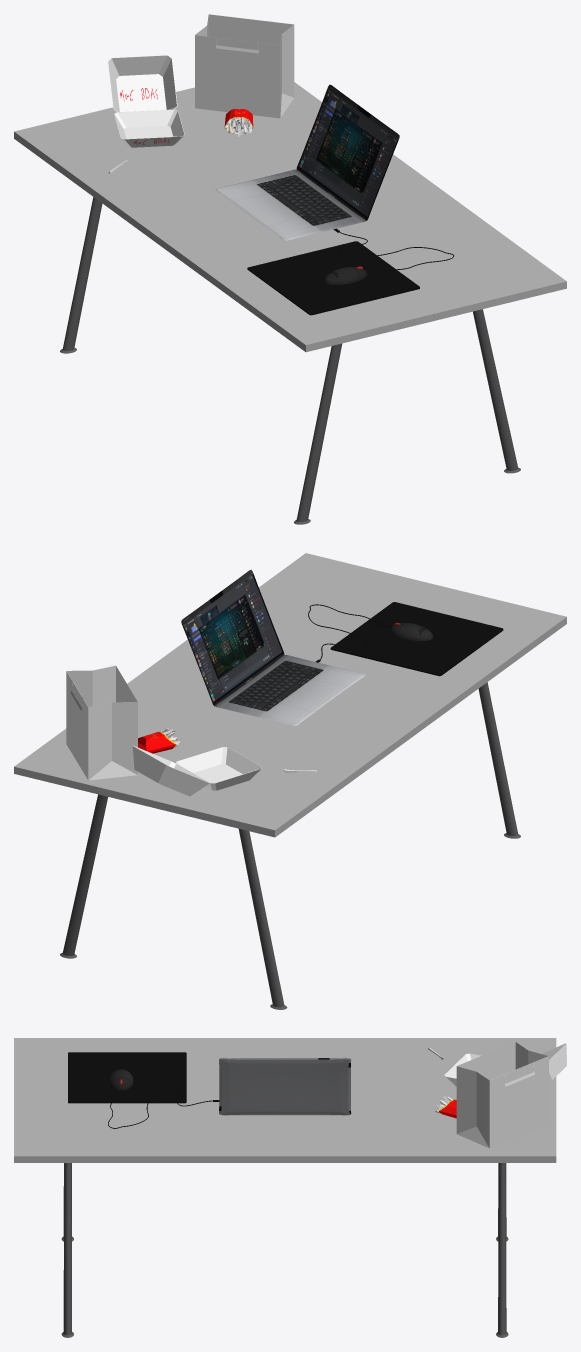
Rendered from Table.fbx.
The picture shows the model from 3 angles, top to bottom: view 1: azimuth 30°, elevation 25°; view 2: azimuth 150°, elevation 25°; view 3: azimuth 270°, elevation 25°; orthographic projection. The views are drawn at different scales.
Parts seen in each view (by area): view 1: Bord, Macbook, pose, Mussemåtte, Macboas, Pommes; view 2: Bord, Macbook, pose, Mussemåtte, Macboas, Pommes, Sphere; view 3: Bord, pose, Macbook, Mussemåtte, Macboas, Sphere.
Part boxes in pixels (x1,y1,x2,y2): Bord: [14, 82, 566, 524]; Macbook: [215, 84, 399, 240]; pose: [195, 14, 294, 118]; Mussemåtte: [247, 241, 419, 315]; Macboas: [108, 55, 184, 147]; Pommes: [224, 109, 253, 136]; Bord: [14, 553, 566, 1009]; Macbook: [181, 569, 365, 725]; pose: [66, 665, 137, 780]; Mussemåtte: [330, 602, 503, 676]; Macboas: [132, 745, 261, 796]; Pommes: [138, 727, 180, 753]; Sphere: [390, 622, 433, 640]; Bord: [14, 1038, 556, 1337]; pose: [456, 1042, 548, 1148]; Macbook: [219, 1057, 351, 1115]; Mussemåtte: [68, 1052, 186, 1103]; Macboas: [444, 1043, 566, 1086]; Sphere: [108, 1069, 133, 1090].
Size of the model in its own units: 630 by 652 by 1244.
12 materials, 6 textured.
